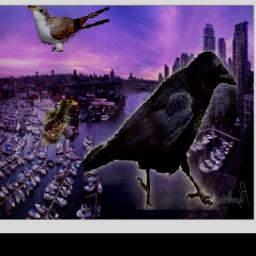Crow: (84, 51, 238, 211)
Cuckoo: (28, 5, 109, 52)
Sparrow: (43, 99, 72, 145)
